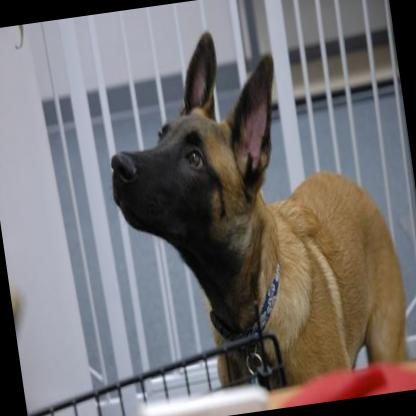malinois: (88, 5, 416, 405)
